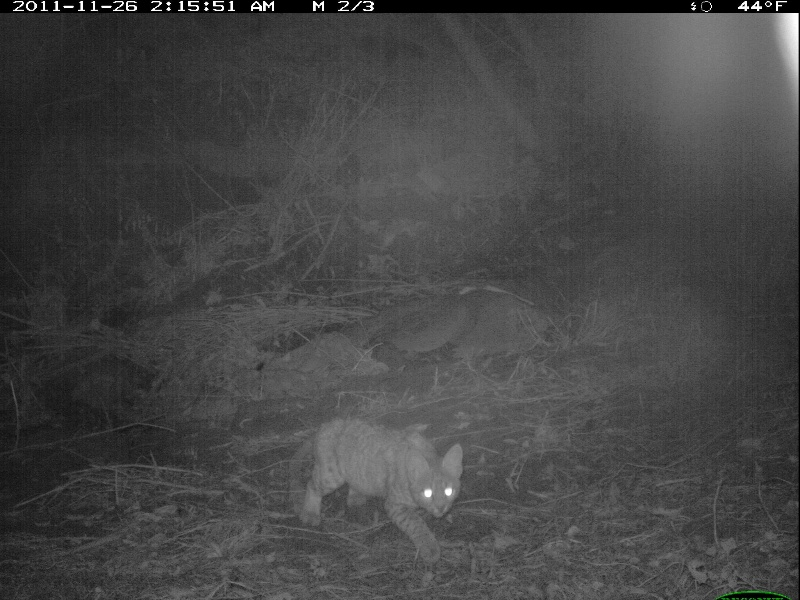cat: (294, 416, 472, 569)
